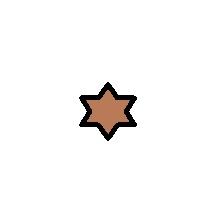star: (79, 82, 136, 141)
